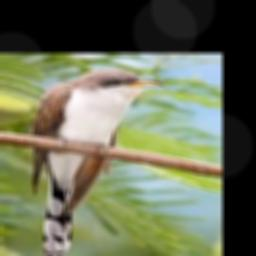Cuckoo: (31, 68, 163, 256)
